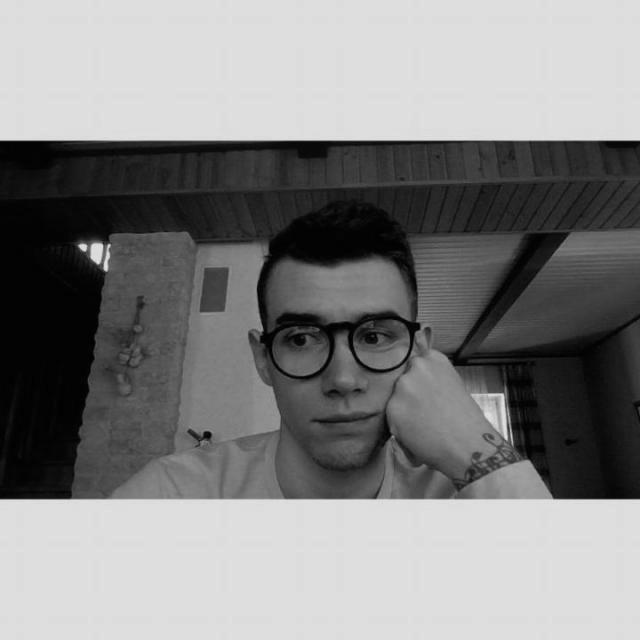real: (270, 260, 414, 470)
